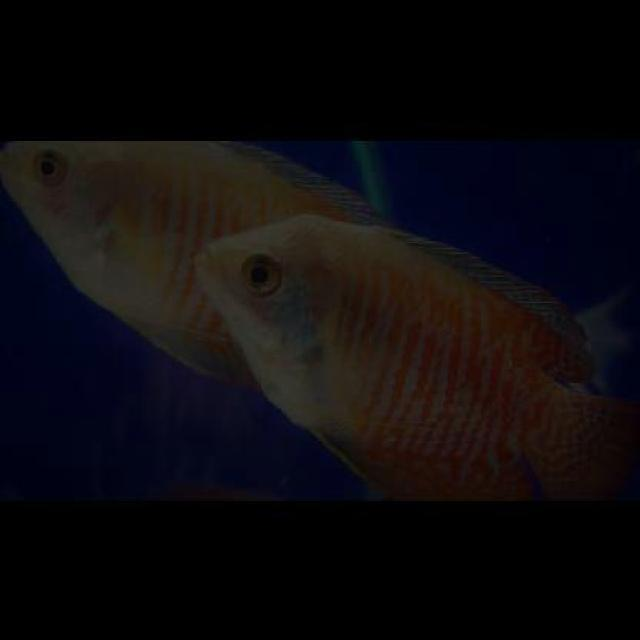Gourami: (190, 210, 638, 498)
